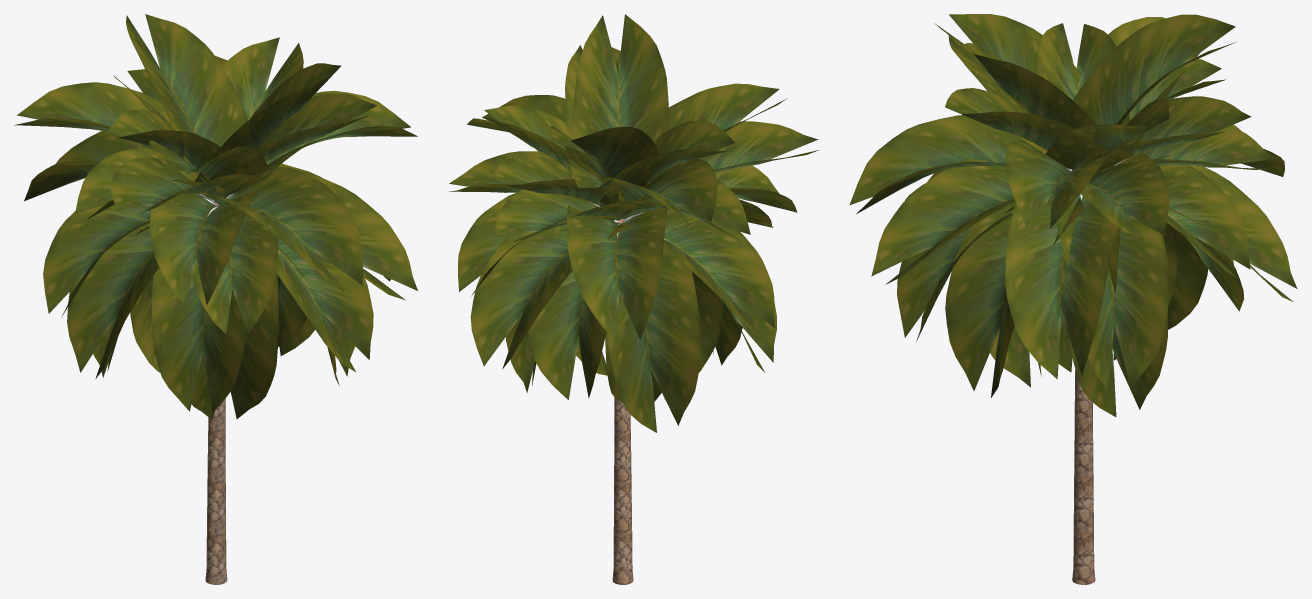
The model's file is PalmTreeNormal.obj.
3 renders of one model, left to right at view 1: azimuth 30°, elevation 25°; view 2: azimuth 150°, elevation 25°; view 3: azimuth 270°, elevation 25°, orthographic. The views are drawn at different scales.
Visible parts, largest first — view 1: date palm leaf, palm01; view 2: date palm leaf, palm01; view 3: date palm leaf, palm01.
Boxes of the visible parts, x1=… form: date palm leaf: x1=14, y1=14, x2=417, y2=420; palm01: x1=205, y1=204, x2=227, y2=584; date palm leaf: x1=449, y1=14, x2=818, y2=432; palm01: x1=612, y1=218, x2=633, y2=584; date palm leaf: x1=849, y1=14, x2=1297, y2=416; palm01: x1=1072, y1=369, x2=1095, y2=584.
Size of the model in its own units: 331 by 502 by 362.
3 materials, 2 textured.
